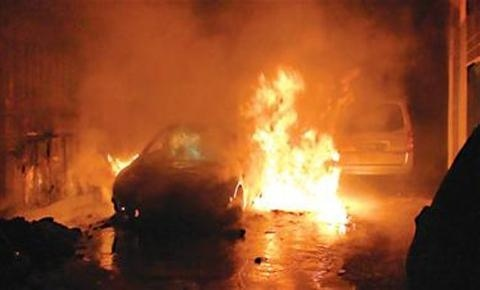fire: (233, 66, 352, 232), (104, 146, 142, 178)
